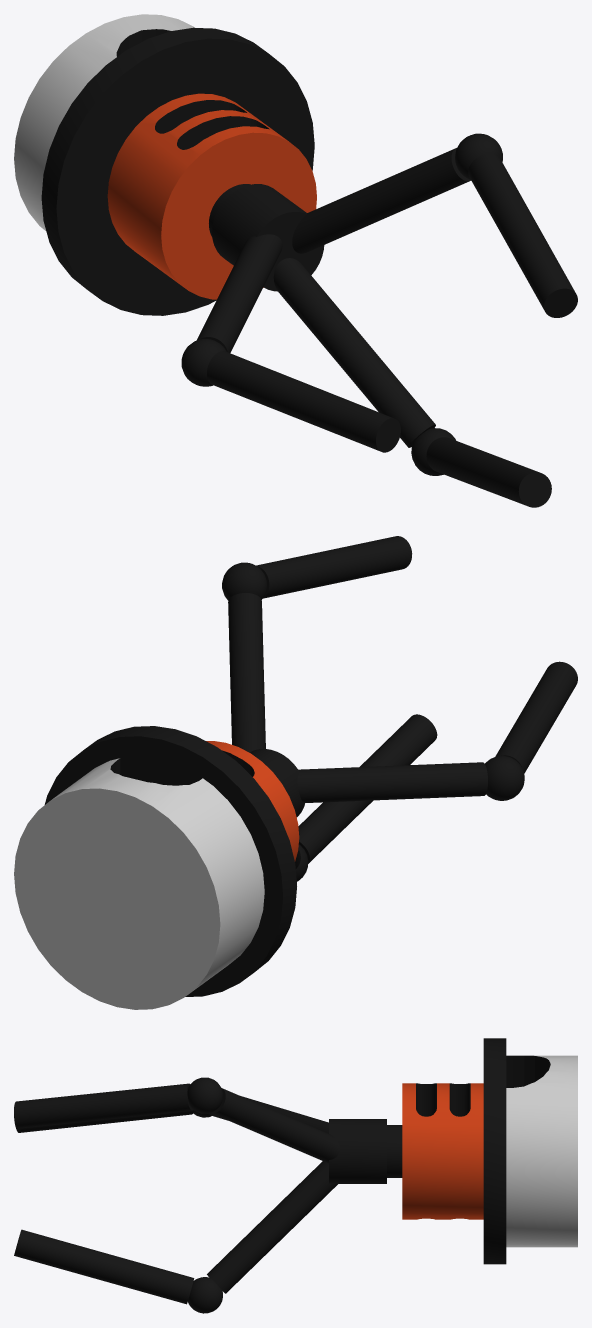
Rendered from Pinza.fbx.
3 views of the same model, one above another, from view 1: azimuth 30°, elevation 25°; view 2: azimuth 150°, elevation 25°; view 3: azimuth 270°, elevation 25° (orthographic). The views are drawn at different scales.
Visible parts, largest first — view 1: Cylinder_1_3, Cylinder_2, Cylinder_2_3, Cylinder_1_2, Cylinder_3_2, Cylinder_1, Cylinder_3_3, Cylinder, Cylinder_3_4, Cylinder_3, Cube, Sphere (+2 smaller); view 2: Cylinder_2_3, Cylinder_1_3, Cylinder_3, Cylinder_1, Cylinder_3_3, Cylinder_3_4, Cylinder_3_2, Cylinder_2, Sphere, Cylinder, Sphere_2; view 3: Cylinder_2_3, Cylinder_2, Cylinder_1_3, Cylinder_3_4, Cylinder_3_3, Cylinder_1_2, Cylinder, Cylinder_1, Cube, Cube_3, Sphere_2, Sphere_3 (+3 smaller).
Part boxes in pixels (bbox=[...]): Cylinder_1_3: bbox=[41, 27, 314, 315]; Cylinder_2: bbox=[107, 93, 316, 299]; Cylinder_2_3: bbox=[14, 14, 194, 230]; Cylinder_1_2: bbox=[273, 258, 435, 447]; Cylinder_3_2: bbox=[207, 351, 400, 452]; Cylinder_1: bbox=[292, 148, 470, 253]; Cylinder_3_3: bbox=[468, 154, 577, 317]; Cylinder: bbox=[212, 184, 324, 291]; Cylinder_3_4: bbox=[426, 437, 551, 507]; Cylinder_3: bbox=[197, 234, 282, 352]; Cube: bbox=[155, 100, 269, 149]; Sphere: bbox=[181, 339, 226, 386]; Cylinder_2_3: bbox=[14, 758, 264, 1009]; Cylinder_1_3: bbox=[44, 726, 296, 996]; Cylinder_3: bbox=[297, 762, 487, 802]; Cylinder_1: bbox=[228, 593, 265, 752]; Cylinder_3_3: bbox=[256, 536, 412, 598]; Cylinder_3_4: bbox=[298, 714, 437, 863]; Cylinder_3_2: bbox=[495, 661, 577, 773]; Cylinder_2: bbox=[206, 741, 299, 861]; Sphere: bbox=[485, 755, 524, 800]; Cylinder: bbox=[250, 749, 304, 817]; Sphere_2: bbox=[222, 562, 267, 600]; Cylinder_2_3: bbox=[506, 1055, 577, 1247]; Cylinder_2: bbox=[402, 1083, 483, 1219]; Cylinder_1_3: bbox=[483, 1038, 506, 1264]; Cylinder_3_4: bbox=[14, 1229, 194, 1304]; Cylinder_3_3: bbox=[14, 1083, 192, 1128]; Cylinder_1_2: bbox=[207, 1161, 337, 1293]; Cylinder: bbox=[329, 1119, 386, 1183]; Cylinder_1: bbox=[211, 1088, 339, 1163]; Cube: bbox=[416, 1083, 470, 1116]; Cube_3: bbox=[506, 1055, 550, 1087]; Sphere_2: bbox=[187, 1077, 222, 1113]; Sphere_3: bbox=[188, 1277, 222, 1313].
Bounding box in the file's own units: 24.15 × 23.96 × 49.22.
